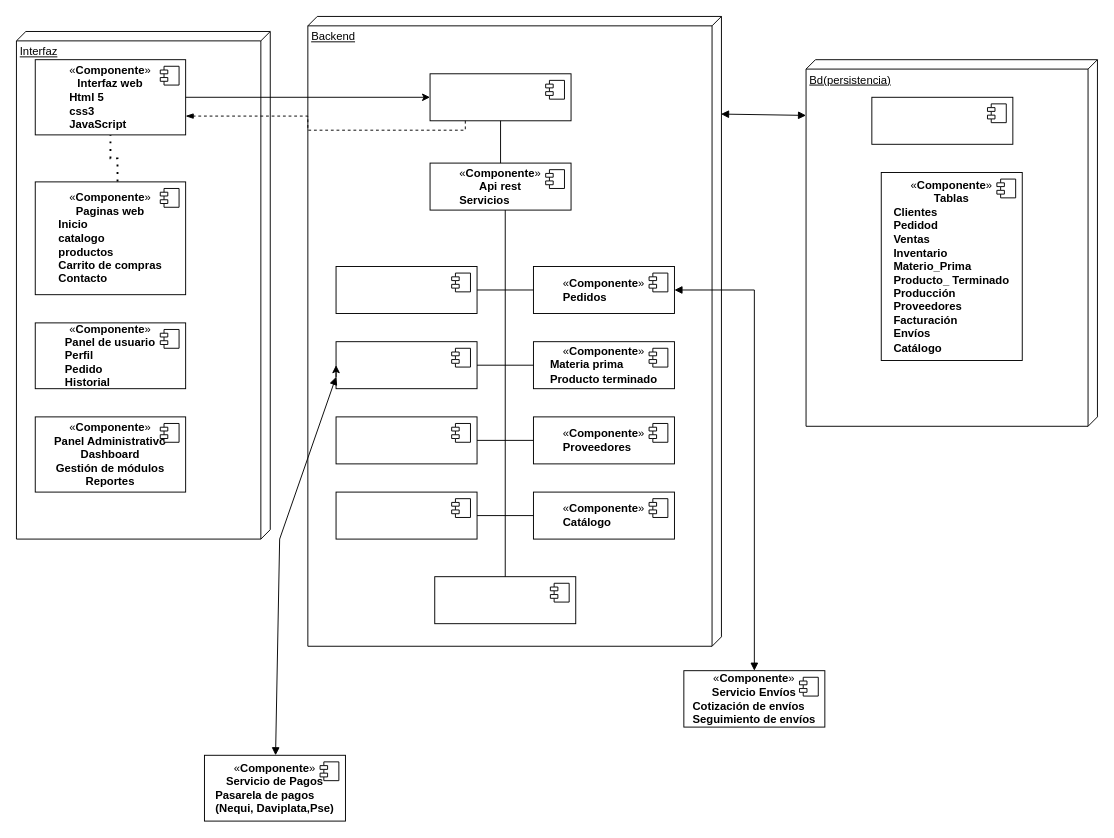
The diagram is 1114 pixels wide and 838 high, and some of its shapes have lost their labels. Each missing label, with the centre of its shape:
"« Componente » Base de Datos MySQL" goes at pixel 942 120.
"« Componente » Clientes" goes at pixel 406 289.
"« Componente » Envíos" goes at pixel 505 600.
"« Componente » Facturación" goes at pixel 406 515.
"« Componente » Producción" goes at pixel 406 440.
"« Componente » Servidor web Python" goes at pixel 500 97.
"« Componente » Ventas" goes at pixel 406 365.
